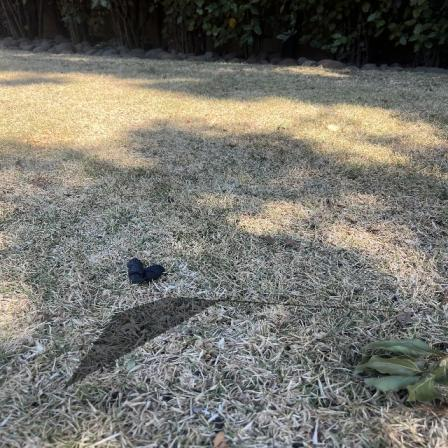dog-poop: (126, 255, 164, 288)
